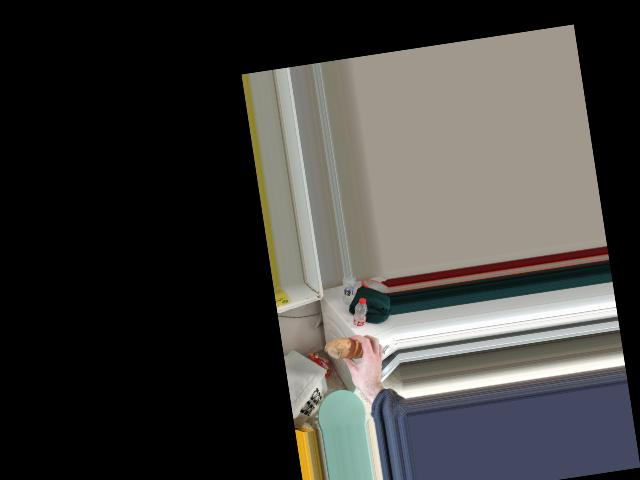sweet_potato: (335, 337, 375, 372)
